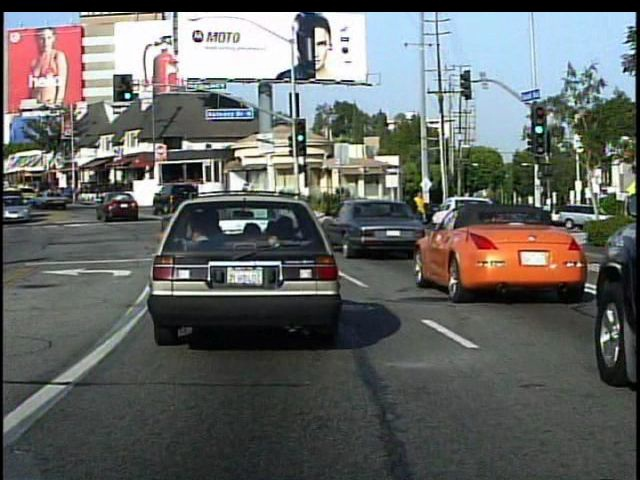person: (410, 189, 428, 228), (402, 191, 419, 231)
